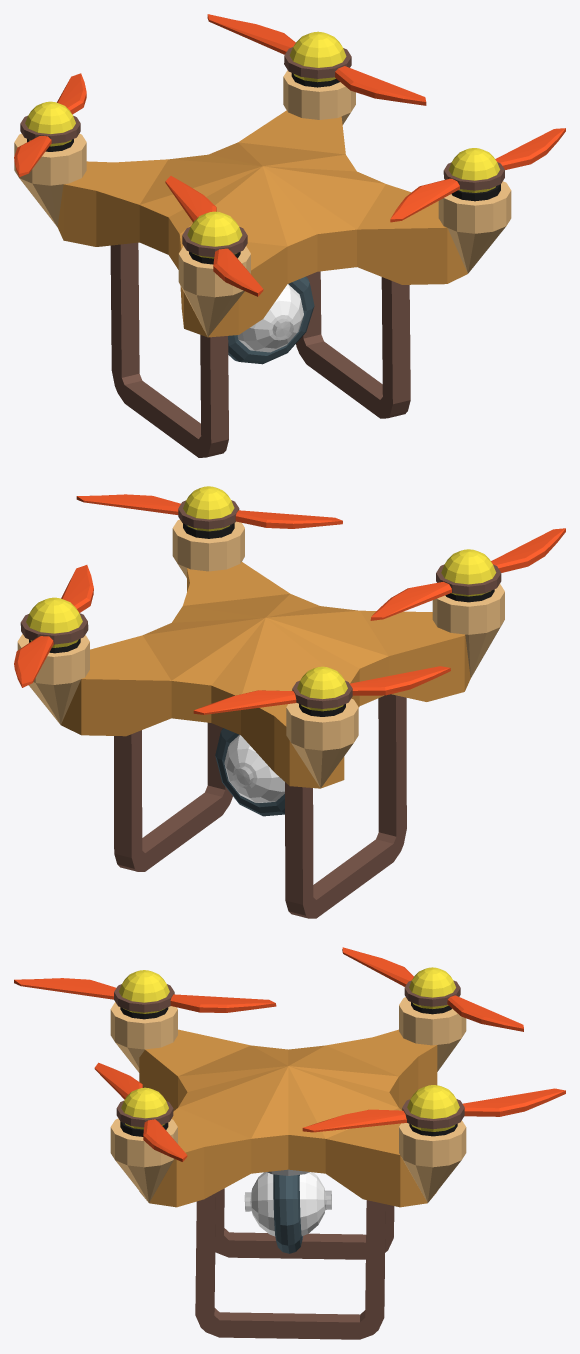
The model's file is drone.obj.
3 views of the same model, one above another, from view 1: azimuth 30°, elevation 25°; view 2: azimuth 150°, elevation 25°; view 3: azimuth 270°, elevation 25° (orthographic). The views are drawn at different scales.
Parts seen in each view (by area): view 1: mesh_1199939253_mesh, mesh_283485658_mesh.036, mesh_1771420515_mesh.033, mesh_374451338_mesh.035, mesh_835989597_mesh.005, mesh_576974416_mesh.030, mesh_2045882386_mesh.034, mesh_1410951191_mesh.008, mesh_439432995_mesh.007, mesh_675011374_mesh.006, mesh_824398956_mesh.019, mesh_2114845038_mesh.031 (+18 smaller); view 2: mesh_1199939253_mesh, mesh_374451338_mesh.035, mesh_2045882386_mesh.034, mesh_283485658_mesh.036, mesh_439432995_mesh.007, mesh_835989597_mesh.005, mesh_1771420515_mesh.033, mesh_576974416_mesh.030, mesh_675011374_mesh.006, mesh_1410951191_mesh.008, mesh_824398956_mesh.019, mesh_1107419545_mesh.018 (+18 smaller); view 3: mesh_1199939253_mesh, mesh_1771420515_mesh.033, mesh_2045882386_mesh.034, mesh_576974416_mesh.030, mesh_1410951191_mesh.008, mesh_675011374_mesh.006, mesh_439432995_mesh.007, mesh_374451338_mesh.035, mesh_283485658_mesh.036, mesh_2114845038_mesh.031, mesh_835989597_mesh.005, mesh_1372294838_mesh.026 (+17 smaller).
Boxes of the visible parts, box(x1,y1,x2,y2) form: mesh_1199939253_mesh: box(57, 110, 467, 337); mesh_283485658_mesh.036: box(110, 242, 178, 430); mesh_1771420515_mesh.033: box(343, 277, 410, 418); mesh_374451338_mesh.035: box(161, 335, 228, 457); mesh_835989597_mesh.005: box(438, 181, 511, 233); mesh_576974416_mesh.030: box(237, 284, 303, 352); mesh_2045882386_mesh.034: box(296, 271, 360, 390); mesh_1410951191_mesh.008: box(283, 70, 355, 119); mesh_439432995_mesh.007: box(14, 133, 86, 185); mesh_675011374_mesh.006: box(178, 246, 250, 297); mesh_824398956_mesh.019: box(289, 31, 346, 82); mesh_2114845038_mesh.031: box(228, 276, 314, 364); mesh_1199939253_mesh: box(61, 562, 470, 788); mesh_374451338_mesh.035: box(337, 694, 406, 889); mesh_2045882386_mesh.034: box(114, 730, 183, 871); mesh_283485658_mesh.036: box(285, 782, 354, 918); mesh_439432995_mesh.007: box(286, 698, 358, 750); mesh_835989597_mesh.005: box(172, 519, 244, 571); mesh_1771420515_mesh.033: box(166, 722, 232, 843); mesh_576974416_mesh.030: box(224, 735, 284, 802); mesh_675011374_mesh.006: box(432, 584, 504, 634); mesh_1410951191_mesh.008: box(17, 634, 89, 684); mesh_824398956_mesh.019: box(26, 597, 82, 647); mesh_1107419545_mesh.018: box(441, 549, 496, 596); mesh_1199939253_mesh: box(139, 1029, 437, 1207); mesh_1771420515_mesh.033: box(195, 1193, 289, 1338); mesh_2045882386_mesh.034: box(289, 1200, 385, 1339); mesh_576974416_mesh.030: box(250, 1172, 326, 1236); mesh_1410951191_mesh.008: box(399, 1120, 466, 1167); mesh_675011374_mesh.006: box(110, 1002, 177, 1049); mesh_439432995_mesh.007: box(399, 997, 466, 1045); mesh_374451338_mesh.035: box(215, 1188, 299, 1258); mesh_283485658_mesh.036: box(299, 1204, 394, 1259); mesh_2114845038_mesh.031: box(273, 1174, 302, 1253); mesh_835989597_mesh.005: box(110, 1118, 177, 1167); mesh_1372294838_mesh.026: box(463, 1088, 565, 1116).
Bounding box in the file's own units: 0.5134 × 0.3074 × 0.5744.
